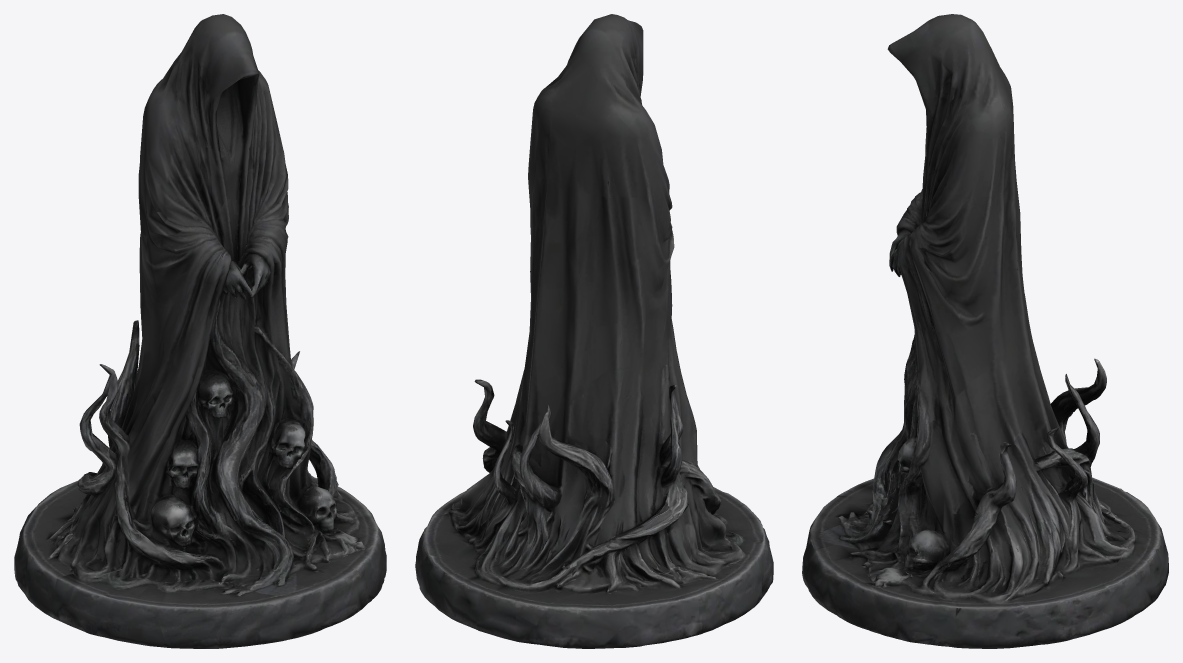
File: mx_dr_reaper_statue.glb
The picture shows the model from 3 angles, left to right: view 1: azimuth 30°, elevation 25°; view 2: azimuth 150°, elevation 25°; view 3: azimuth 270°, elevation 25°; orthographic projection. The views are drawn at different scales.
Visible parts, largest first — view 1: Mesh_0; view 2: Mesh_0; view 3: Mesh_0.
Boxes of the visible parts, x1,y1,x2,y2 form: Mesh_0: [14, 14, 386, 648]; Mesh_0: [415, 14, 773, 648]; Mesh_0: [802, 14, 1168, 648].
Bounding box in the file's own units: 1.14 × 1.9 × 1.13.
Materials: 1 (1 with a texture image).
